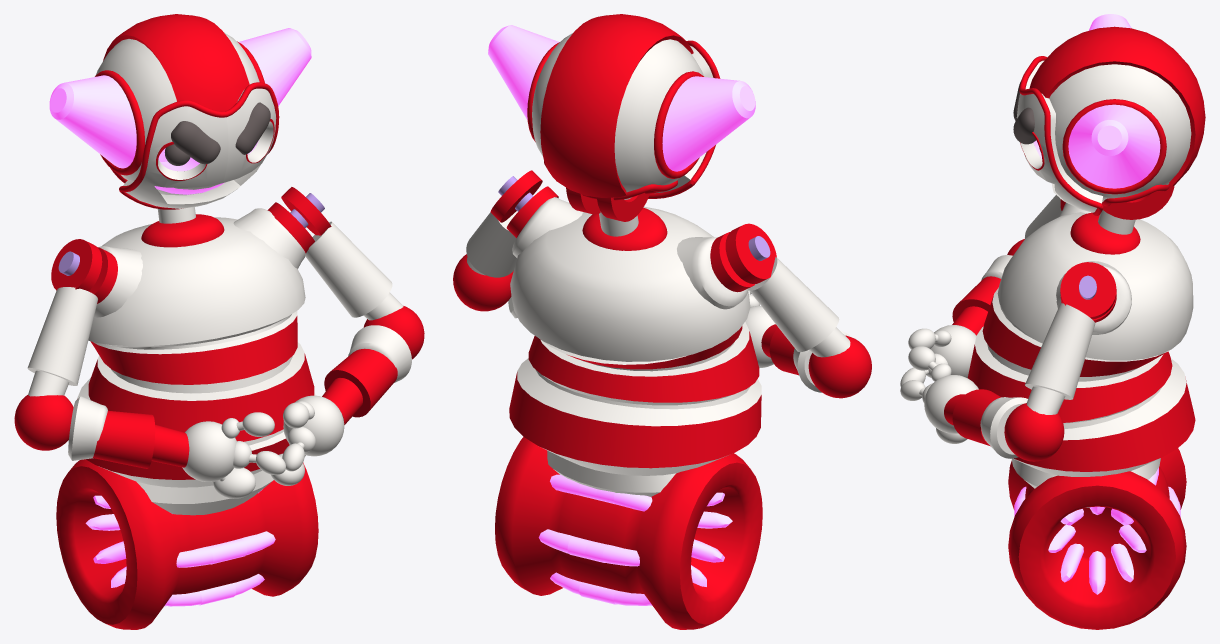
File: EnemyLaserSlow.fbx
3 renders of one model, left to right at view 1: azimuth 30°, elevation 25°; view 2: azimuth 150°, elevation 25°; view 3: azimuth 270°, elevation 25°, orthographic. The views are drawn at different scales.
Visible parts, largest first — view 1: Torso, Wheel, Bicep, Hands, MainHead.002, Mask, Bicep.002, HeadTop, MainHead, ShoulderRotation, Light, Ancle (+8 smaller); view 2: Torso, Wheel, HeadTop, MainHead.002, MainHead, Bicep, Light, ShoulderRotation, Ancle, Shoulders, Torso.003, NeckThing (+9 smaller); view 3: Torso, Wheel, HeadTop, MainHead, MainHead.002, Hands, Bicep, Light, Bicep.002, Mask, Ancle, ShoulderRotation (+10 smaller).
Boxes of the visible parts, x1,y1,x2,y2 form: Torso: (77, 217, 315, 479); Wheel: (56, 459, 318, 629); Bicep: (27, 221, 403, 396); Hands: (182, 395, 344, 498); MainHead.002: (49, 28, 311, 168); Mask: (123, 88, 276, 208); Bicep.002: (93, 348, 397, 468); HeadTop: (103, 14, 249, 111); MainHead: (96, 32, 259, 195); ShoulderRotation: (51, 187, 331, 303); Light: (85, 489, 275, 606); Ancle: (14, 306, 424, 450); Torso: (509, 206, 761, 468); Wheel: (495, 437, 762, 629); HeadTop: (540, 14, 693, 197); MainHead.002: (488, 25, 755, 171); MainHead: (532, 33, 703, 192); Bicep: (466, 211, 850, 357); Light: (538, 474, 732, 605); ShoulderRotation: (490, 170, 776, 292); Ancle: (453, 254, 871, 398); Shoulders: (512, 197, 748, 309); Torso.003: (543, 448, 728, 496); NeckThing: (582, 208, 667, 250); Torso: (967, 212, 1195, 471); Wheel: (1008, 448, 1186, 629); HeadTop: (1029, 26, 1205, 186); MainHead: (1033, 64, 1191, 202); MainHead.002: (1068, 14, 1160, 188); Hands: (900, 325, 978, 443); Bicep: (1025, 195, 1095, 414); Light: (1014, 467, 1180, 594); Bicep.002: (944, 276, 1000, 446); Mask: (1016, 60, 1102, 212); Ancle: (1004, 239, 1064, 461); ShoulderRotation: (1060, 199, 1116, 322).
Size of the model in its own units: 25.96 by 35.69 by 17.64.
